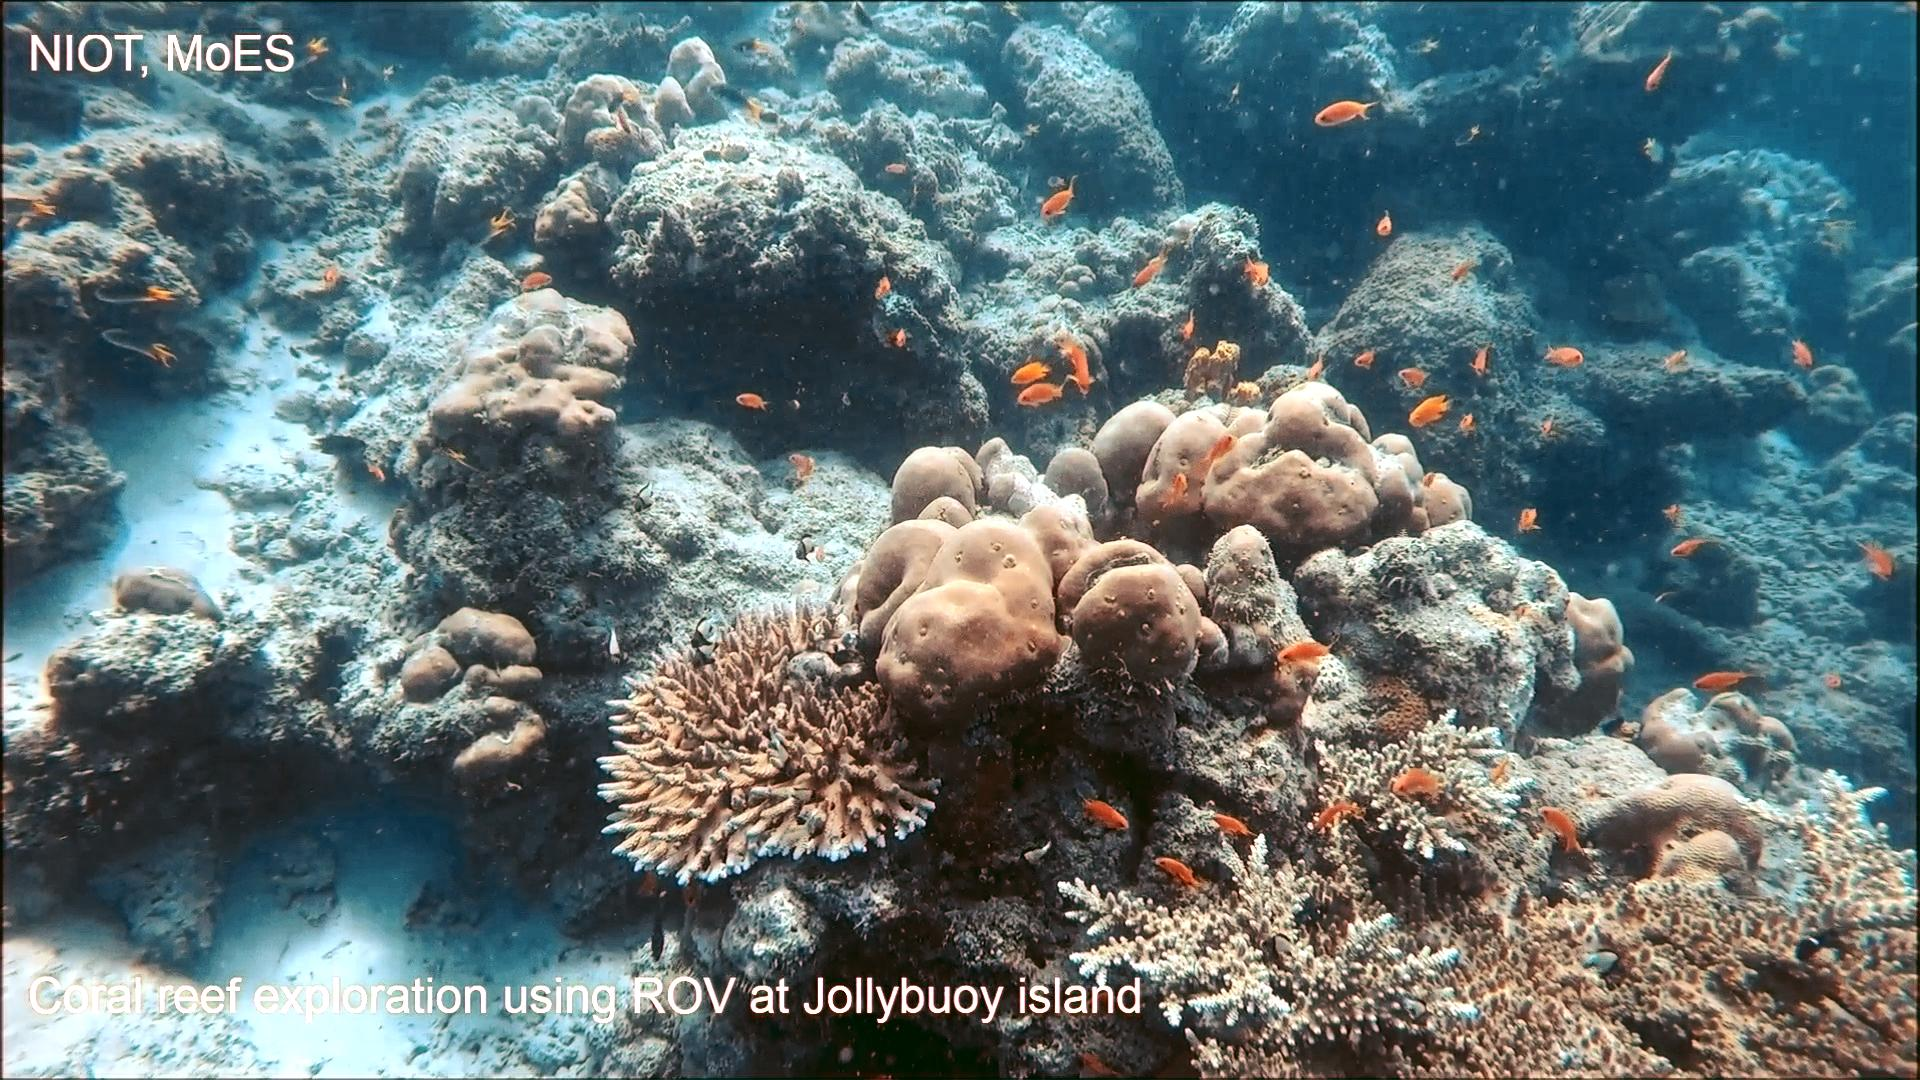Porites-Porites pukoensis: (824, 430, 1213, 745), (1080, 372, 1484, 551)
